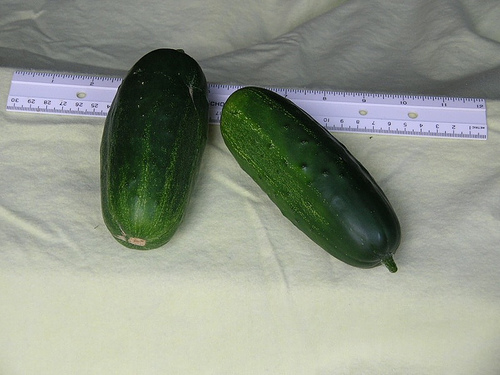cucumber: (220, 84, 401, 275), (99, 47, 208, 251)
